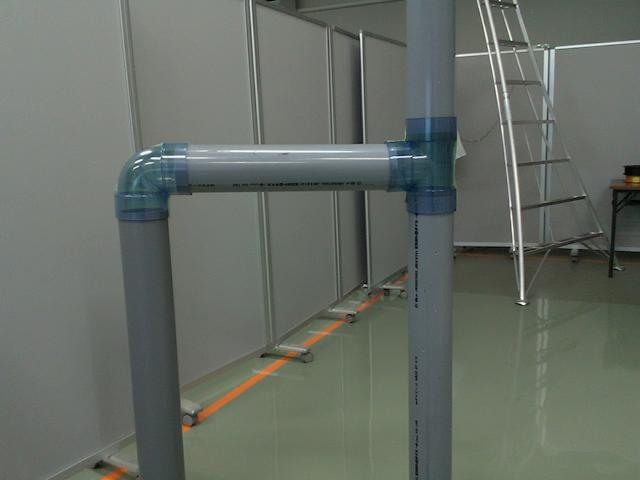bent: (115, 139, 200, 232)
junction: (385, 117, 456, 209)
